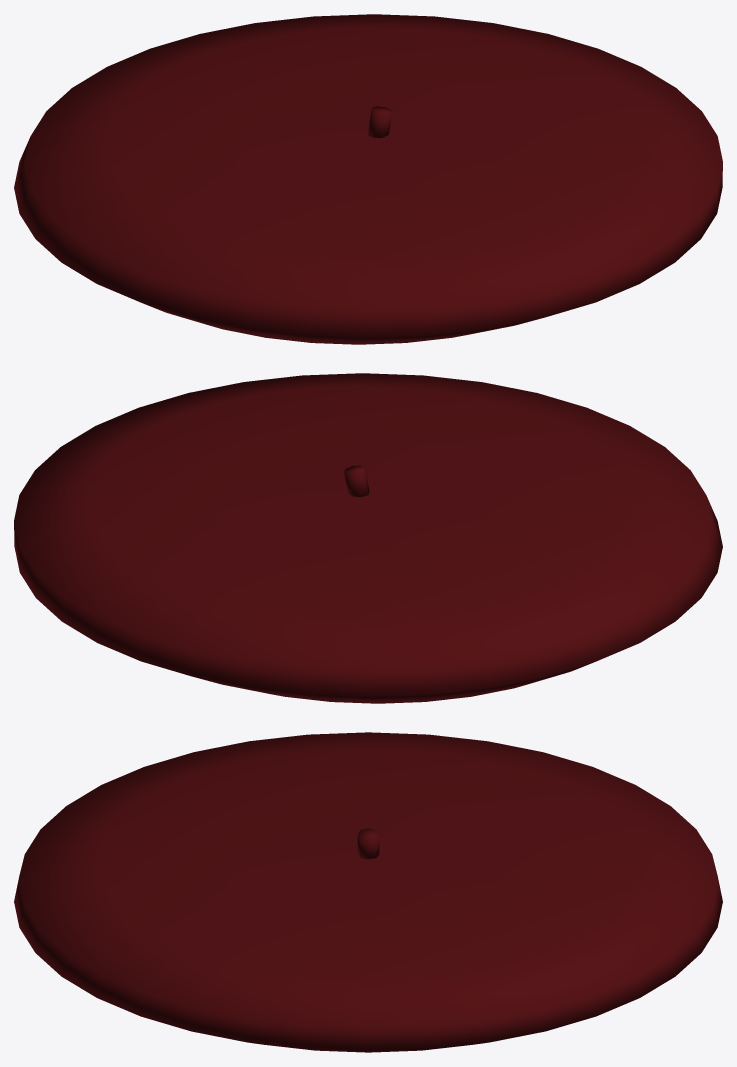
The model's file is baret.obj.
The picture shows the model from 3 angles, top to bottom: view 1: azimuth 30°, elevation 25°; view 2: azimuth 150°, elevation 25°; view 3: azimuth 270°, elevation 25°; orthographic projection.
Visible parts, largest first — view 1: baret, baret_tangkai; view 2: baret, baret_tangkai; view 3: baret, baret_tangkai.
Boxes of the visible parts, bbox=[...] form: baret: bbox=[14, 14, 722, 344]; baret_tangkai: bbox=[367, 106, 392, 138]; baret: bbox=[14, 373, 722, 703]; baret_tangkai: bbox=[344, 465, 369, 497]; baret: bbox=[14, 732, 722, 1052]; baret_tangkai: bbox=[357, 828, 379, 859].
Size of the model in its own units: 2.61 by 0.4678 by 2.6.
